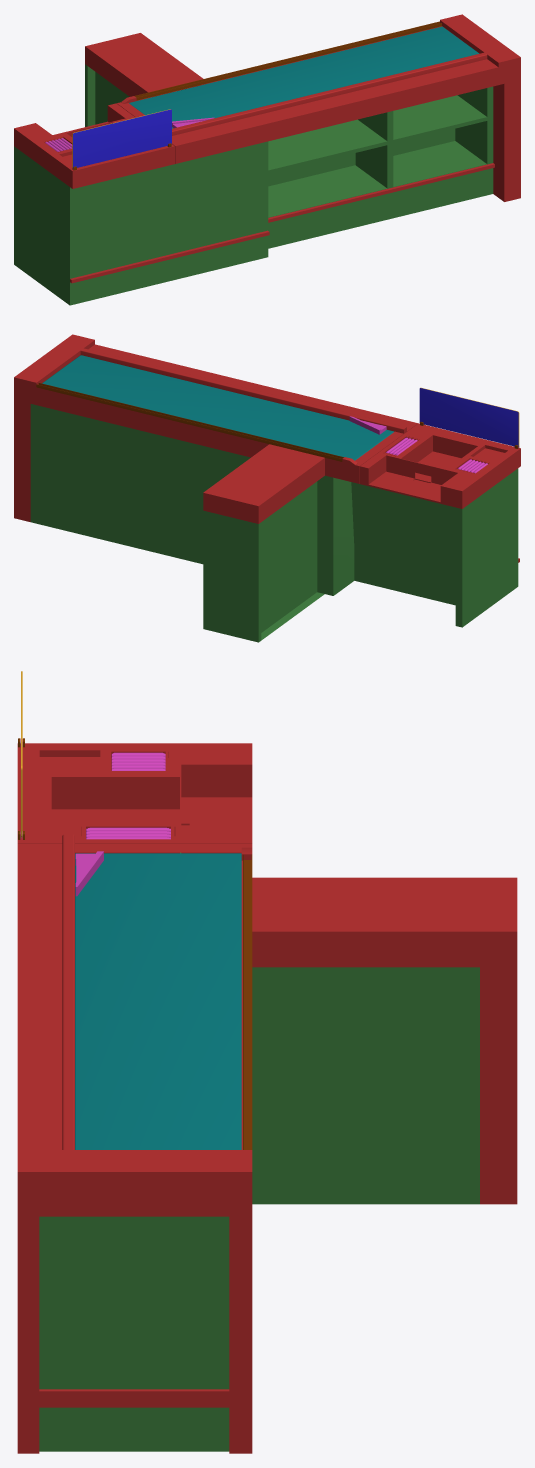
Rendered from SM_Checkout.fbx.
3 renders of one model, top to bottom at view 1: azimuth 30°, elevation 25°; view 2: azimuth 150°, elevation 25°; view 3: azimuth 270°, elevation 25°, orthographic. The views are drawn at different scales.
Parts seen in each view (by area): view 1: SM_Checkout; view 2: SM_Checkout; view 3: SM_Checkout.
Part boxes in pixels (left/top/right/bottom): SM_Checkout: left=14, top=14, right=520, bottom=305; SM_Checkout: left=14, top=334, right=520, bottom=642; SM_Checkout: left=17, top=671, right=517, bottom=1453.
Size of the model in its own units: 289 by 107 by 140.
